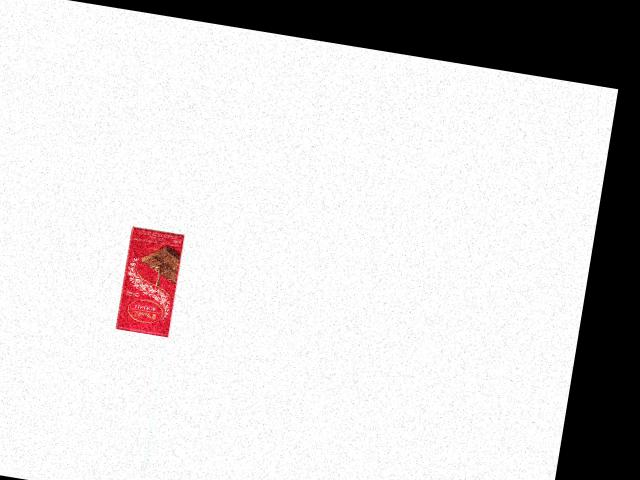chocolate: (113, 227, 190, 337)
